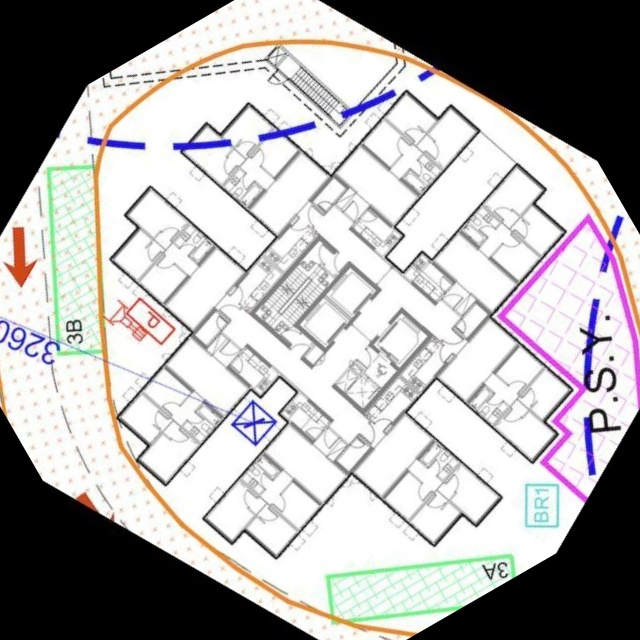tower_crane: (231, 400, 278, 447)
